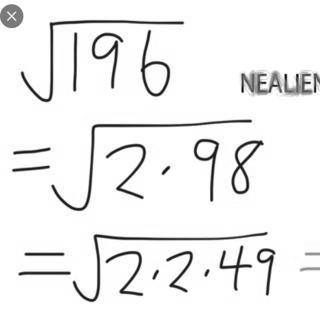.: (197, 256, 217, 282), (154, 155, 173, 177), (148, 264, 160, 288)
1: (66, 28, 85, 99)
2: (104, 132, 150, 207), (103, 245, 148, 302)
3: (161, 249, 195, 295)
4: (218, 243, 254, 301)
6: (137, 28, 173, 106)
8: (224, 133, 264, 206)
9: (189, 133, 222, 211), (88, 28, 124, 98), (254, 244, 281, 302)
